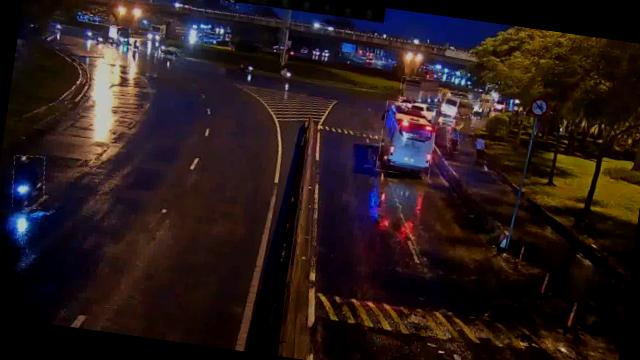Bike: (8, 154, 48, 209), (445, 125, 461, 153)
Bus: (376, 100, 438, 178), (440, 94, 476, 119)
Truck: (400, 75, 450, 108)
